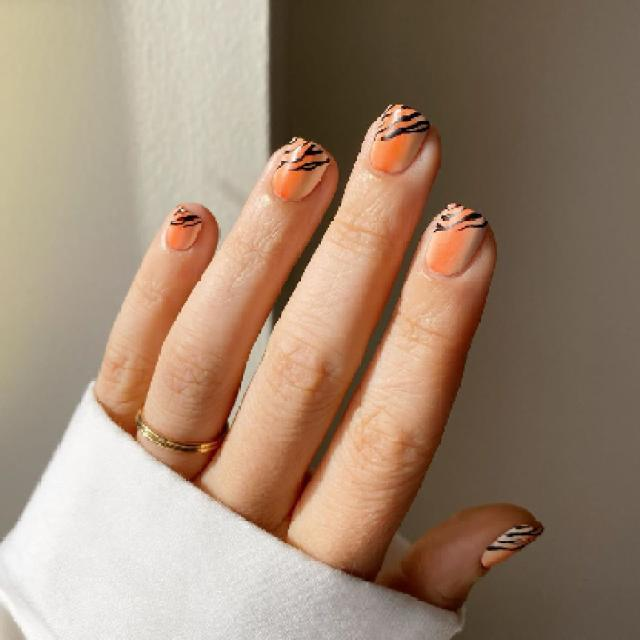Nail: (426, 204, 488, 276), (371, 105, 430, 172), (272, 138, 331, 201), (478, 531, 539, 575), (166, 206, 201, 250)
